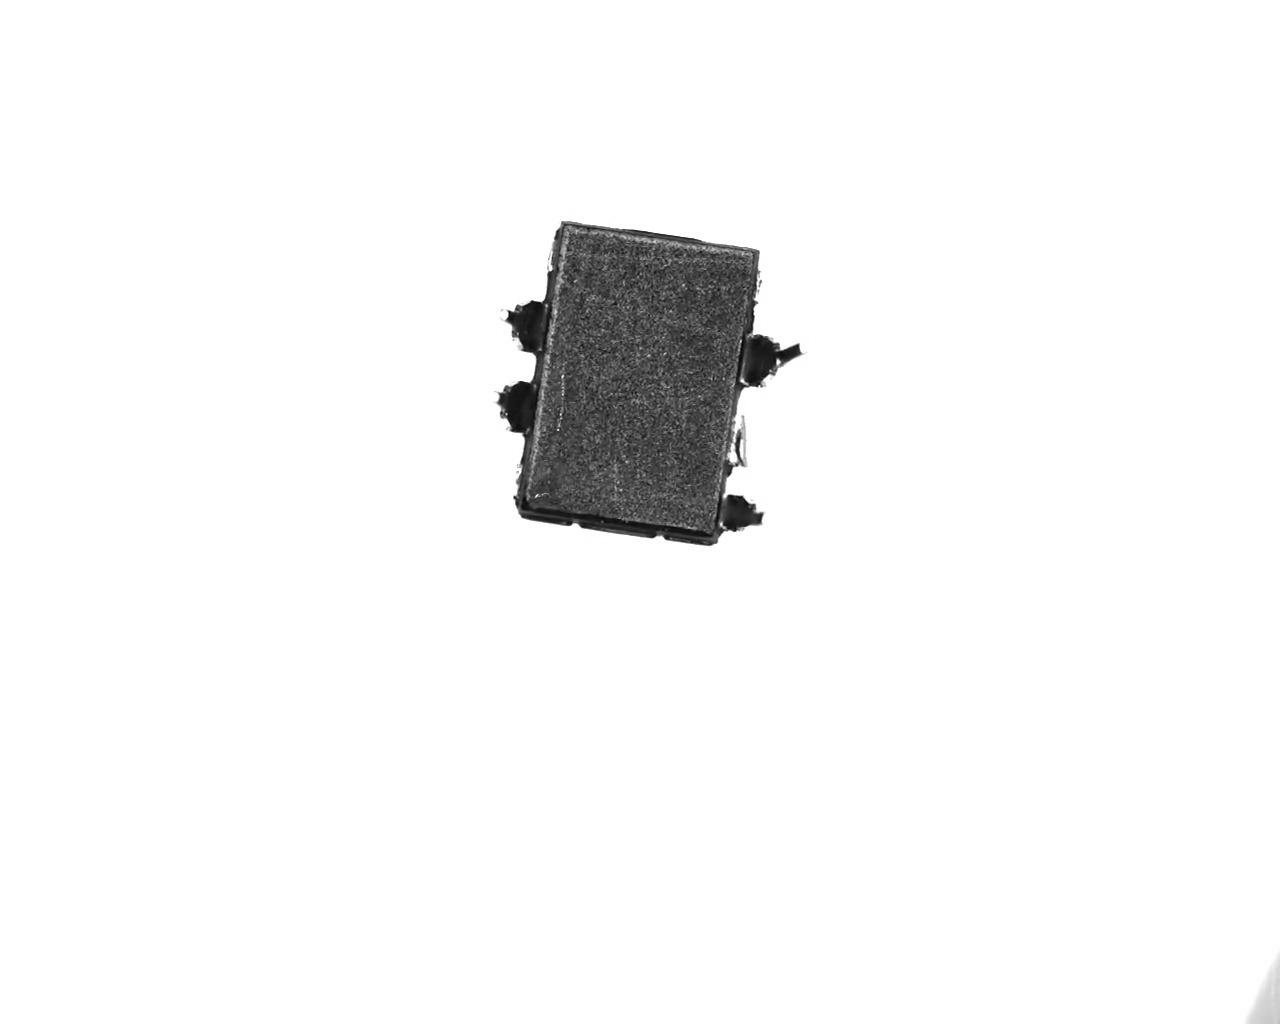brokenLeg: (726, 331, 805, 386), (496, 288, 556, 351), (488, 373, 544, 435), (719, 486, 769, 534)
missingLeg: (499, 444, 541, 502), (742, 257, 778, 322), (725, 401, 754, 474), (540, 222, 575, 283)
